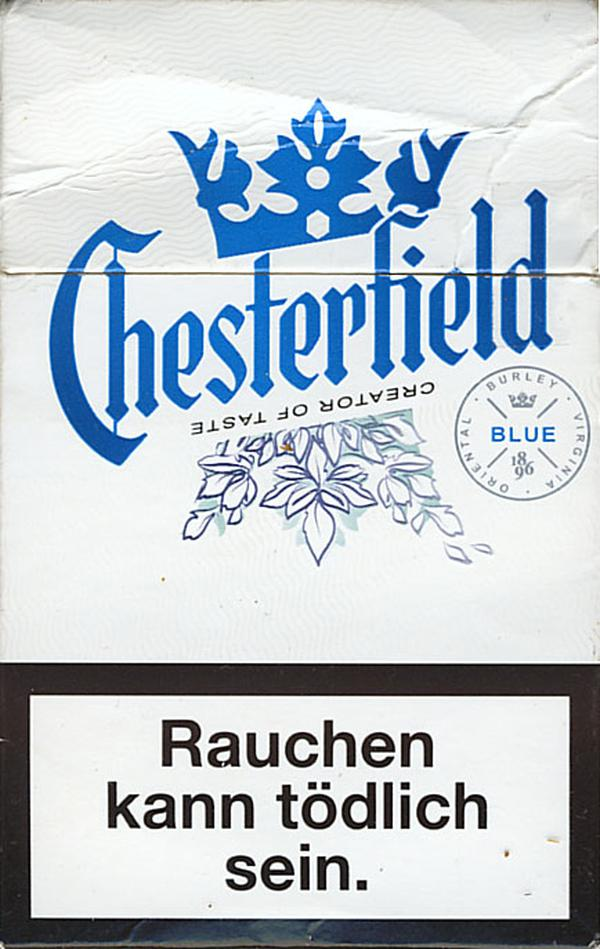chesterfield_blue: (3, 7, 599, 949)
